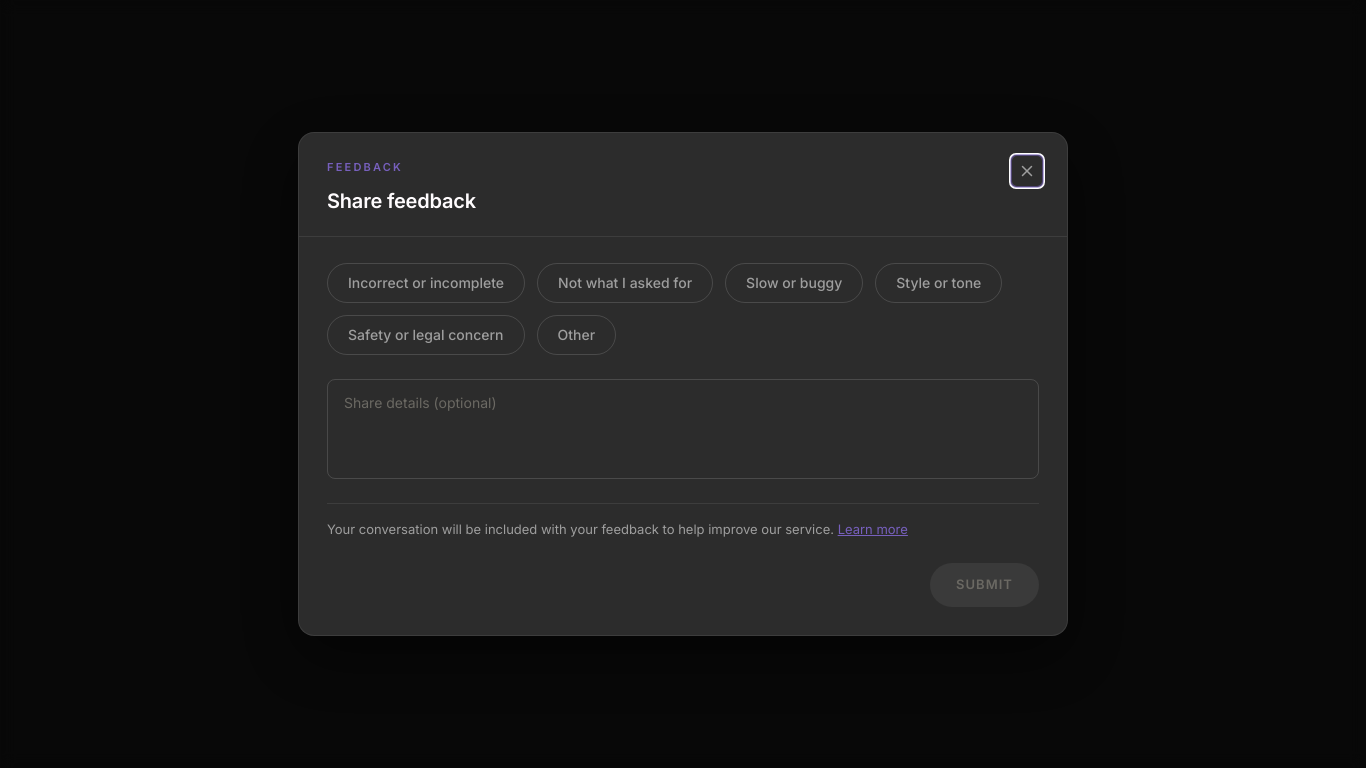
Test: FeedbackModal › submit button is enabled when Other is selected and details are filled
The width and height of the screenshot is (1366, 768).
Click the button "Other" at (576, 334), box [536,314,616,354]
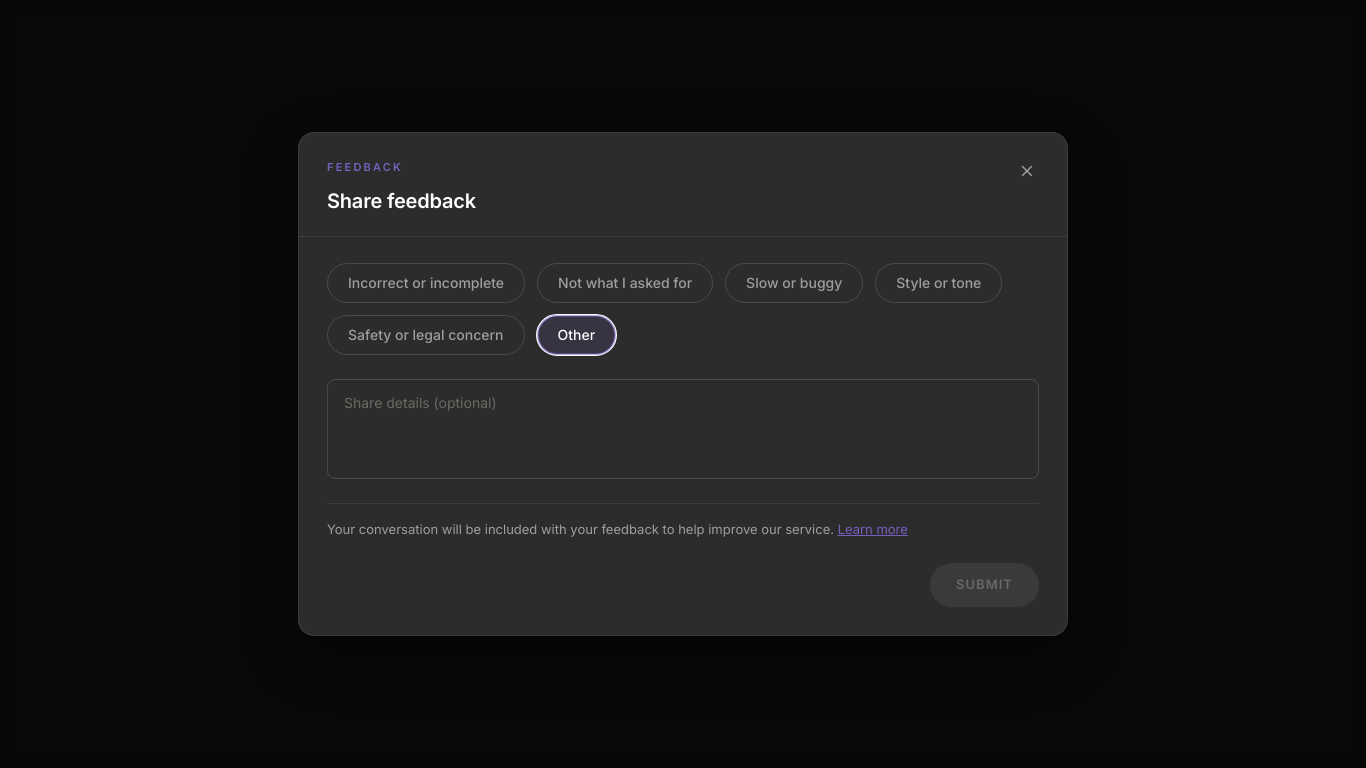
Type "my detail" into the text box with placeholder "Share details (optional)" at (683, 428), box [327,378,1039,478]
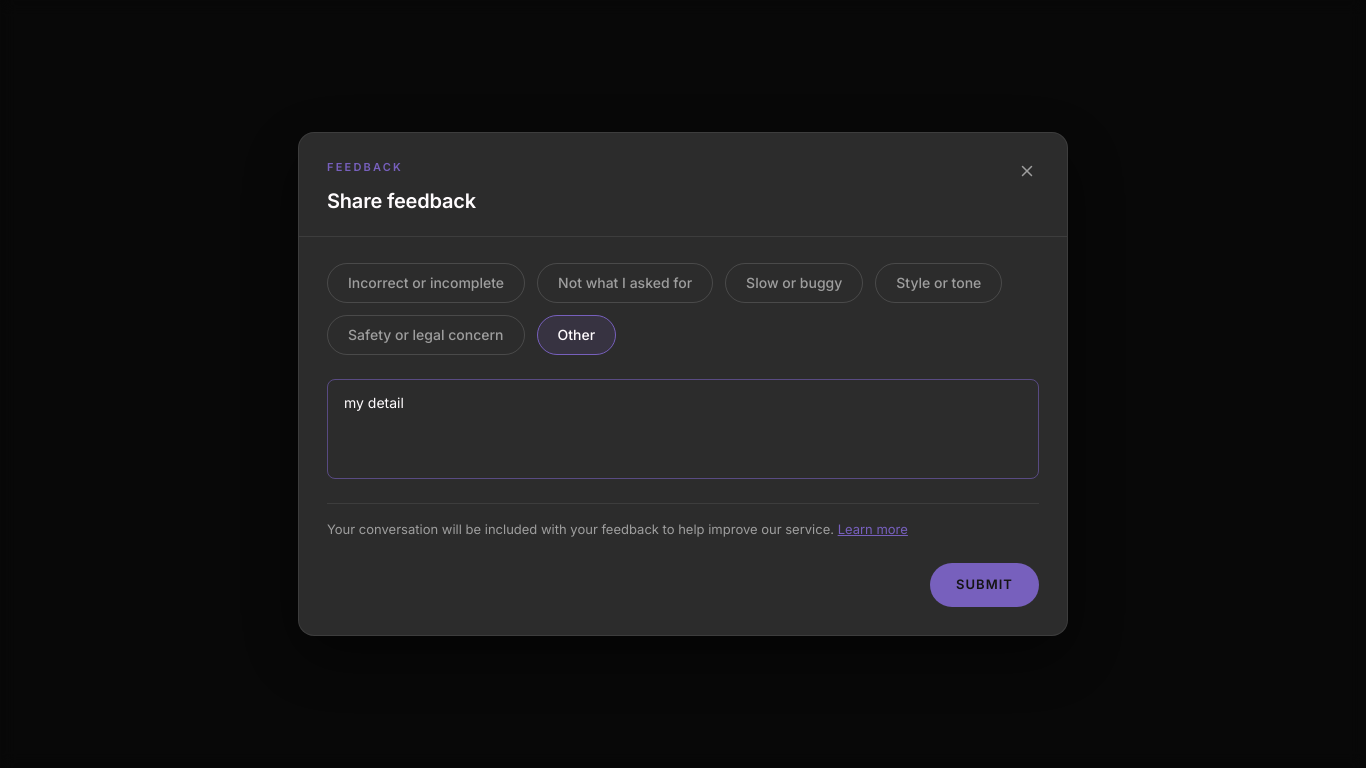
Expected: the button "Submit" is enabled, [930,563,1039,607]
